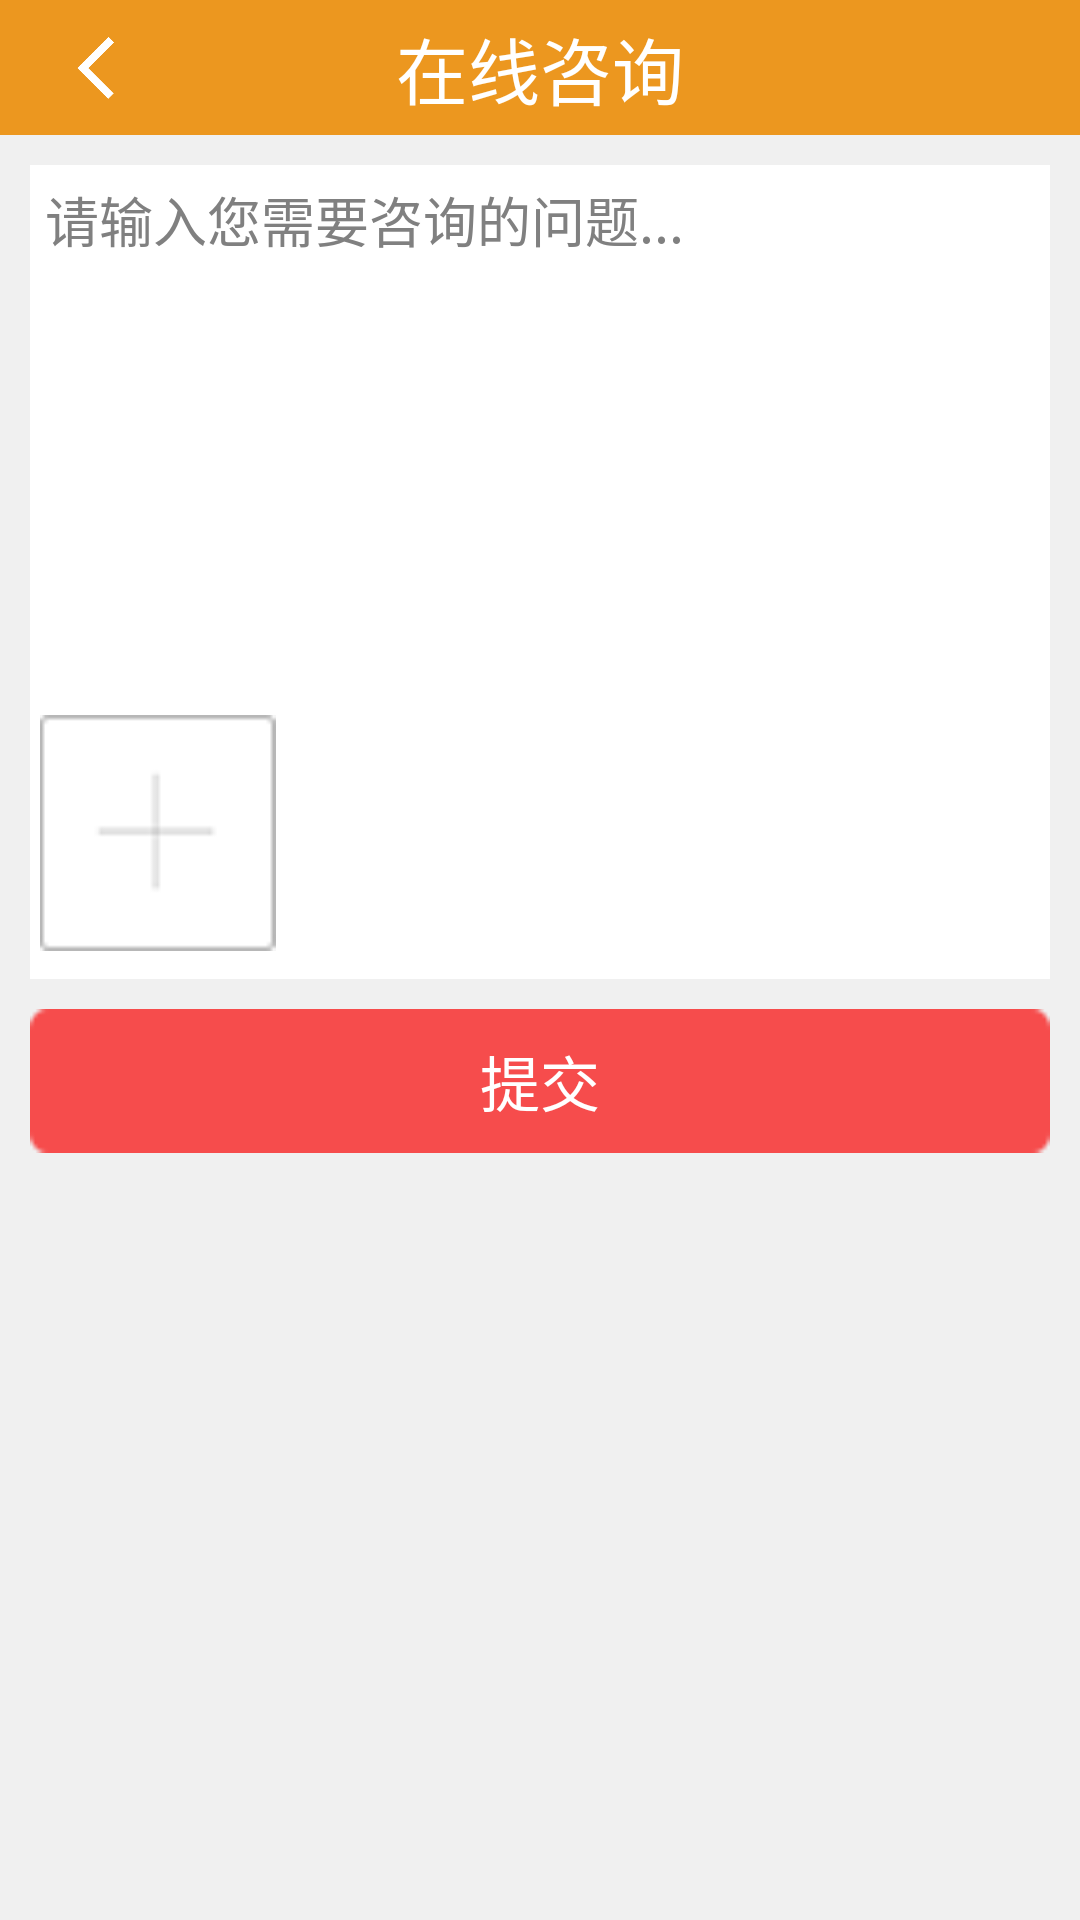

Icons on this 1080px×1920px Android screen, each with the point to tap as point (x, y):
add: point (158, 833)
back: point (96, 68)
